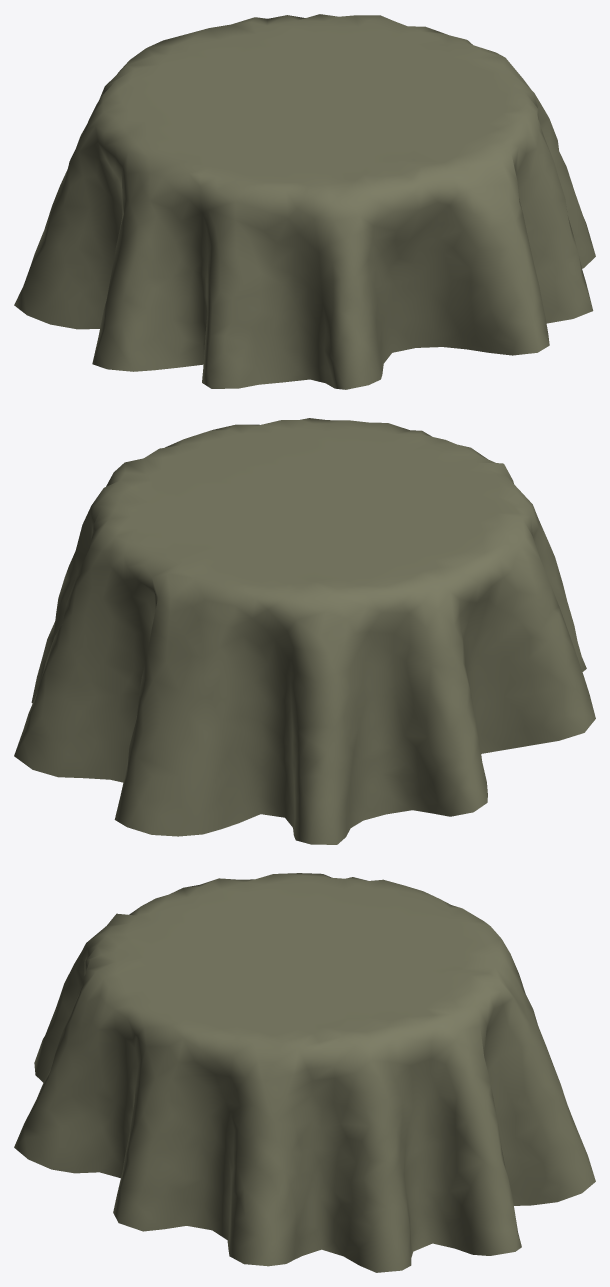
The model's file is SM_Napkin_02.FBX.
3 renders of one model, top to bottom at view 1: azimuth 30°, elevation 25°; view 2: azimuth 150°, elevation 25°; view 3: azimuth 270°, elevation 25°, orthographic. The views are drawn at different scales.
Parts seen in each view (by area): view 1: SM_Napkin_02; view 2: SM_Napkin_02; view 3: SM_Napkin_02.
Boxes of the visible parts, x1,y1,x2,y2 form: SM_Napkin_02: (14, 14, 595, 389); SM_Napkin_02: (14, 418, 595, 844); SM_Napkin_02: (14, 873, 595, 1272).
Size of what is drawn, in the model's own units: 53.65 by 55.31 by 23.83.
